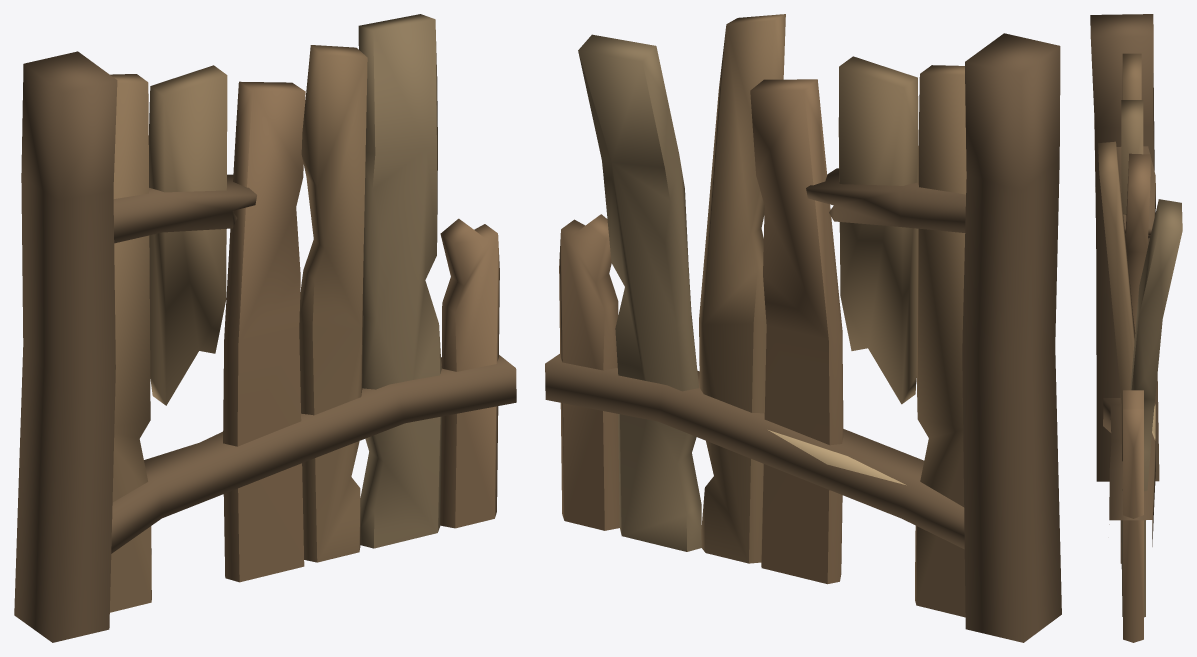
The model's file is rpgpp_av_fence_03g_2m.gltf.
The picture shows the model from 3 angles, left to right: view 1: azimuth 30°, elevation 25°; view 2: azimuth 150°, elevation 25°; view 3: azimuth 270°, elevation 25°; orthographic projection. The views are drawn at different scales.
Parts seen in each view (by area): view 1: rpgpp_av_fence_03g_2m; view 2: rpgpp_av_fence_03g_2m; view 3: rpgpp_av_fence_03g_2m.
Part boxes in pixels (x1,y1,x2,y2): rpgpp_av_fence_03g_2m: (14, 14, 516, 642); rpgpp_av_fence_03g_2m: (545, 14, 1061, 642); rpgpp_av_fence_03g_2m: (1090, 14, 1182, 642).
Bounding box in the file's own units: 0.0194 × 0.0217 × 0.00407.
Materials: 1 (1 with a texture image).
